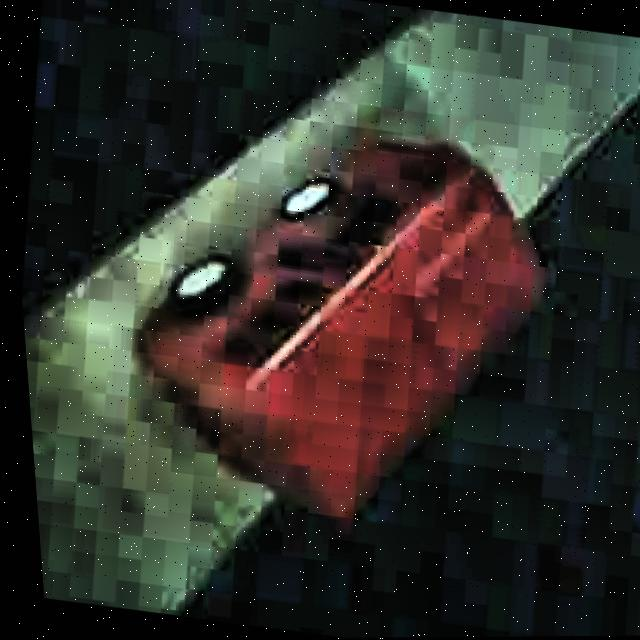bus: (90, 95, 589, 547)
